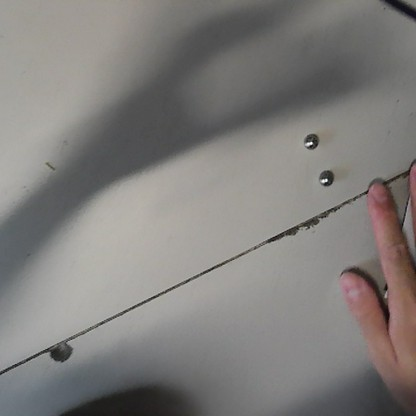ironball: (317, 166, 336, 190), (301, 130, 320, 149)
